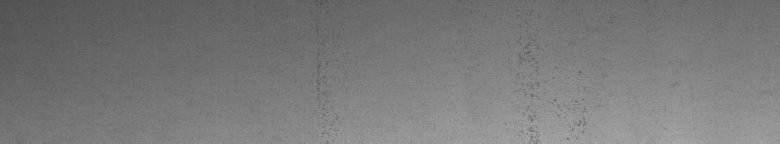ib: (519, 44, 586, 135)
